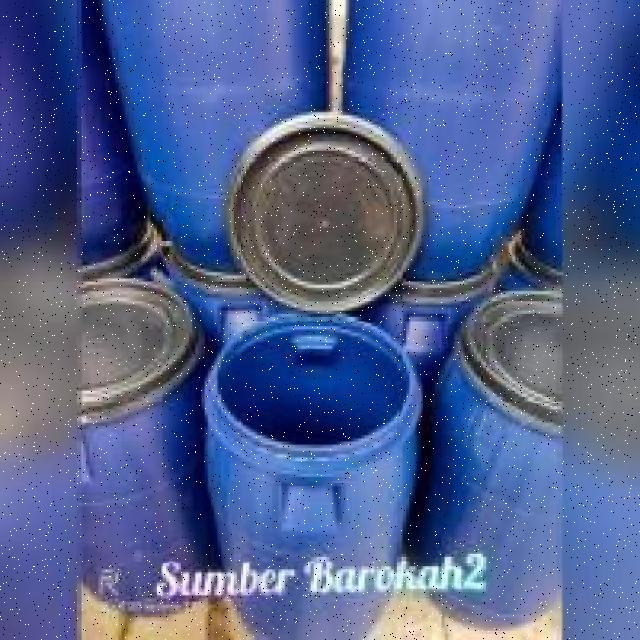garbage container: (206, 318, 434, 638), (423, 289, 568, 631), (78, 276, 203, 616)
